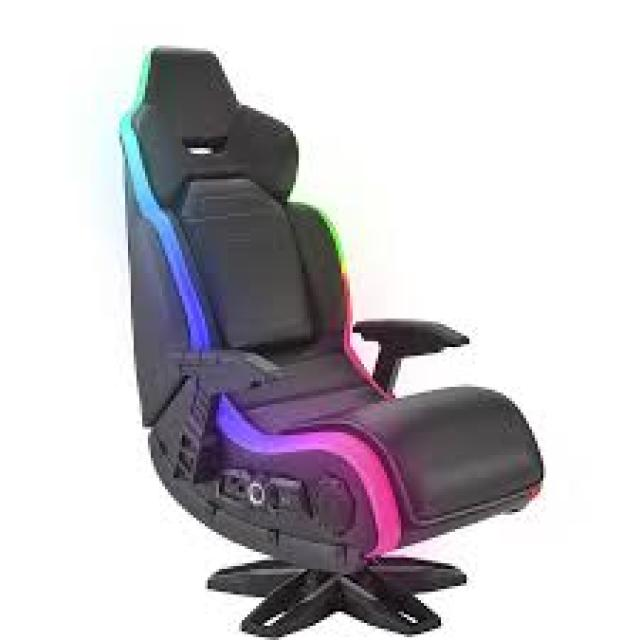chair: (58, 30, 570, 640)
